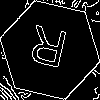R: (25, 25, 70, 77)
